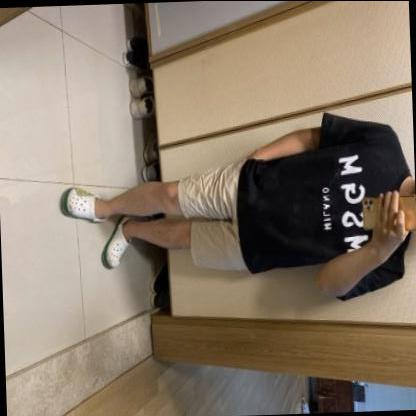no_safety-shoe: (93, 214, 145, 283), (52, 186, 101, 234)
